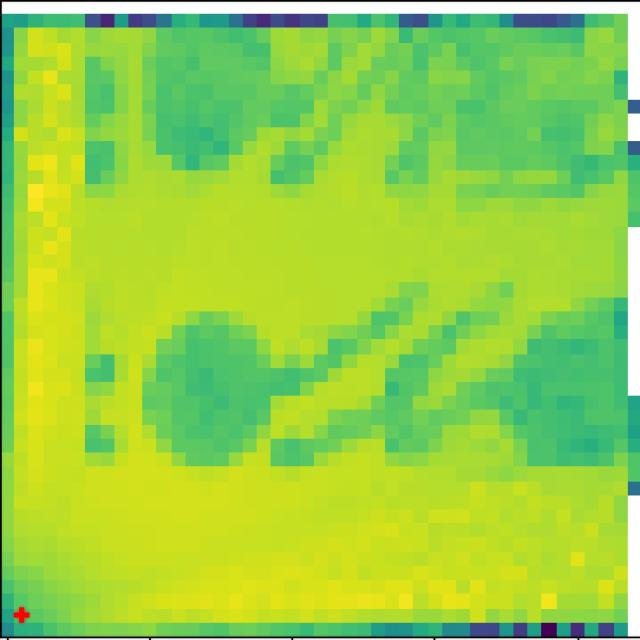Concrete: (141, 21, 291, 176)
Glass: (494, 280, 632, 482)
Metal: (155, 300, 278, 484)
Wood: (418, 28, 611, 200)
